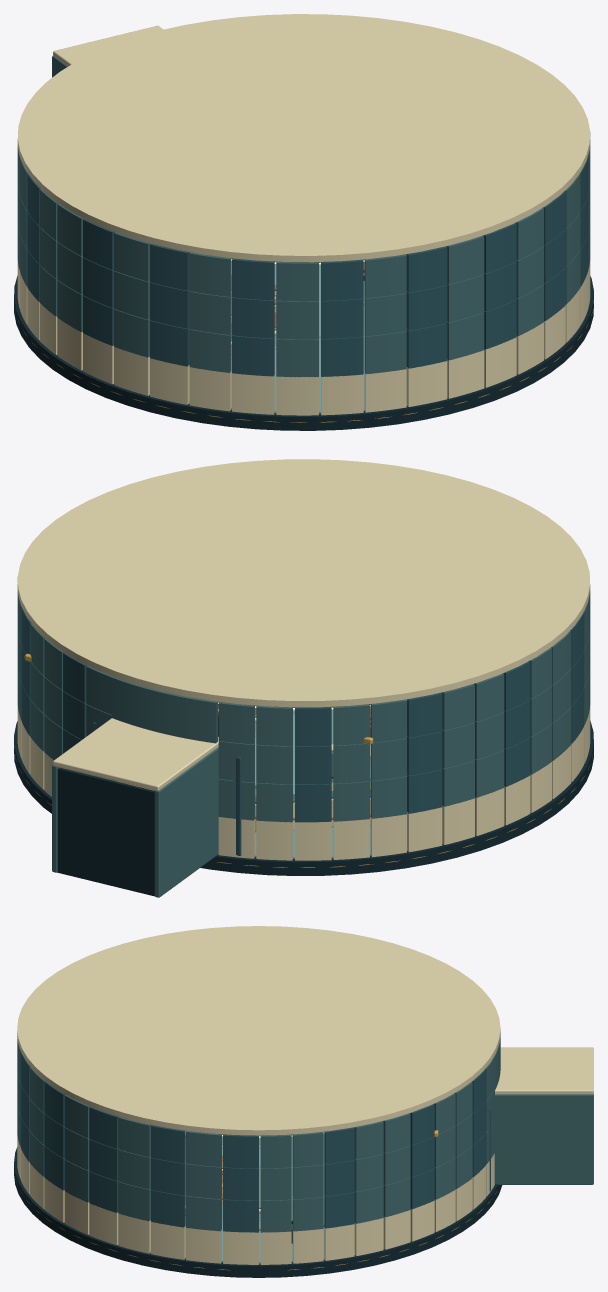
The model's file is starling-dining-room.glb.
The picture shows the model from 3 angles, top to bottom: view 1: azimuth 30°, elevation 25°; view 2: azimuth 150°, elevation 25°; view 3: azimuth 270°, elevation 25°; orthographic projection. The views are drawn at different scales.
Parts seen in each view (by area): view 1: Ceiling / complete ivory shell, Hull / front teal panel (×45), Hull / front cream lower panel (×15), Hull / low circular foundation, Hull / curved teal panel (×3), Entrance / corridor ceiling, Dining / continuous level floor, Hull / washable cream lower panel; view 2: Ceiling / complete ivory shell, Hull / curved teal panel (×39), Hull / washable cream lower panel (×11), Entrance / corridor distant shadow, Hull / low circular foundation, Entrance / corridor left wall, Entrance / corridor ceiling, Entrance / continuous curved transom, Hull / front teal panel (×3), Hull / front cream lower panel, Entrance / corridor right wall, Dining / continuous level floor (+1 smaller); view 3: Ceiling / complete ivory shell, Hull / front teal panel (×24), Hull / curved teal panel (×25), Entrance / corridor right wall, Hull / front cream lower panel (×8), Hull / washable cream lower panel (×8), Hull / low circular foundation, Entrance / corridor ceiling, Dining / continuous level floor.
Part boxes in pixels (x1,y1,x2,y2): Ceiling / complete ivory shell: (17, 14, 590, 262); Hull / front teal panel (×45): (57, 174, 580, 377); Hull / front cream lower panel (×15): (57, 288, 580, 415); Hull / low circular foundation: (14, 275, 593, 430); Hull / curved teal panel (×3): (39, 189, 58, 316); Entrance / corridor ceiling: (53, 25, 163, 66); Dining / continuous level floor: (189, 260, 407, 413); Hull / washable cream lower panel: (39, 303, 57, 354); Ceiling / complete ivory shell: (17, 459, 590, 707); Hull / curved teal panel (×39): (30, 623, 551, 822); Hull / washable cream lower panel (×11): (30, 737, 551, 860); Entrance / corridor distant shadow: (57, 767, 154, 896); Hull / low circular foundation: (14, 721, 593, 875); Entrance / corridor left wall: (154, 747, 218, 897); Entrance / corridor ceiling: (53, 718, 218, 790); Entrance / continuous curved transom: (111, 676, 217, 743); Hull / front teal panel (×3): (551, 631, 571, 760); Hull / front cream lower panel: (552, 745, 571, 799); Entrance / corridor right wall: (52, 765, 115, 872); Dining / continuous level floor: (144, 709, 407, 858); Ceiling / complete ivory shell: (17, 926, 500, 1135); Hull / front teal panel (×24): (29, 1067, 258, 1232); Hull / curved teal panel (×25): (260, 1069, 485, 1232); Entrance / corridor right wall: (494, 1094, 593, 1184); Hull / front cream lower panel (×8): (29, 1163, 258, 1264); Hull / washable cream lower panel (×8): (260, 1178, 472, 1264); Hull / low circular foundation: (14, 1147, 502, 1277); Entrance / corridor ceiling: (495, 1047, 593, 1094); Dining / continuous level floor: (150, 1134, 354, 1263).
Size of the model in its own units: 15.2 by 5.01 by 18.
